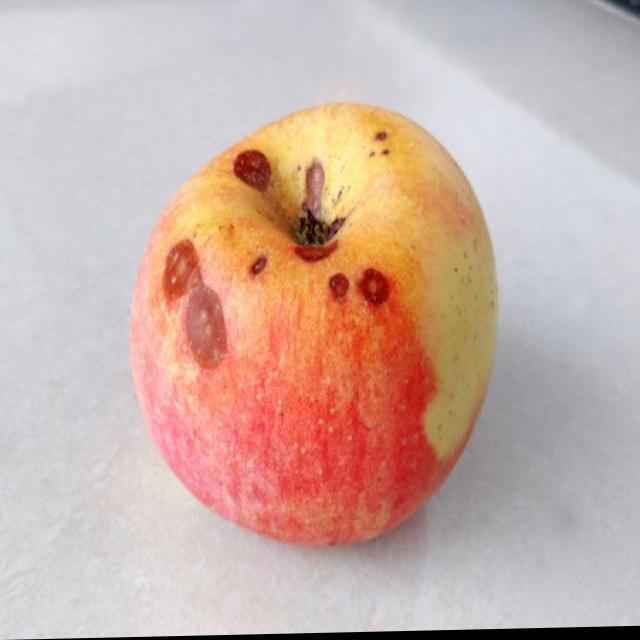apple: (129, 100, 499, 548)
